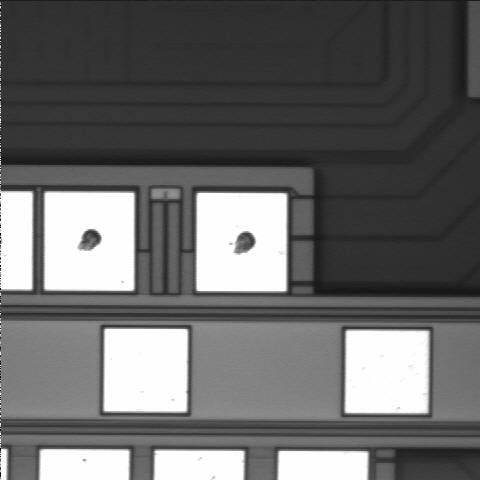pad: (197, 193, 287, 291), (45, 192, 134, 291), (104, 329, 188, 412), (345, 331, 429, 413)
